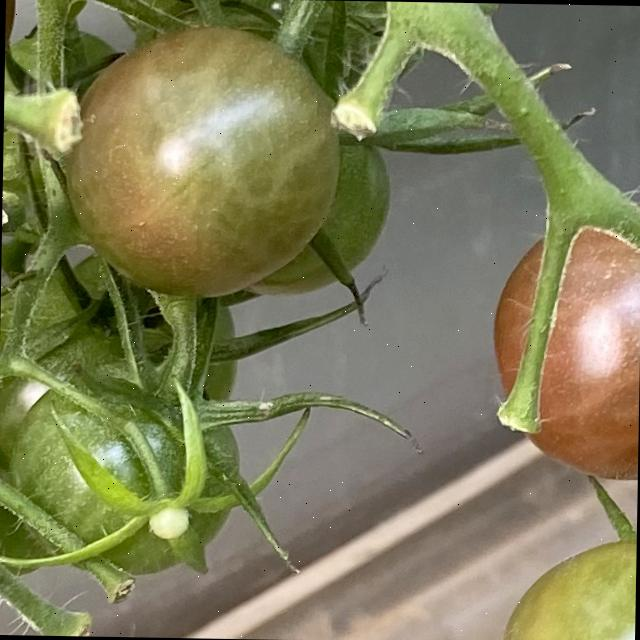tomato: (392, 505, 636, 640)
